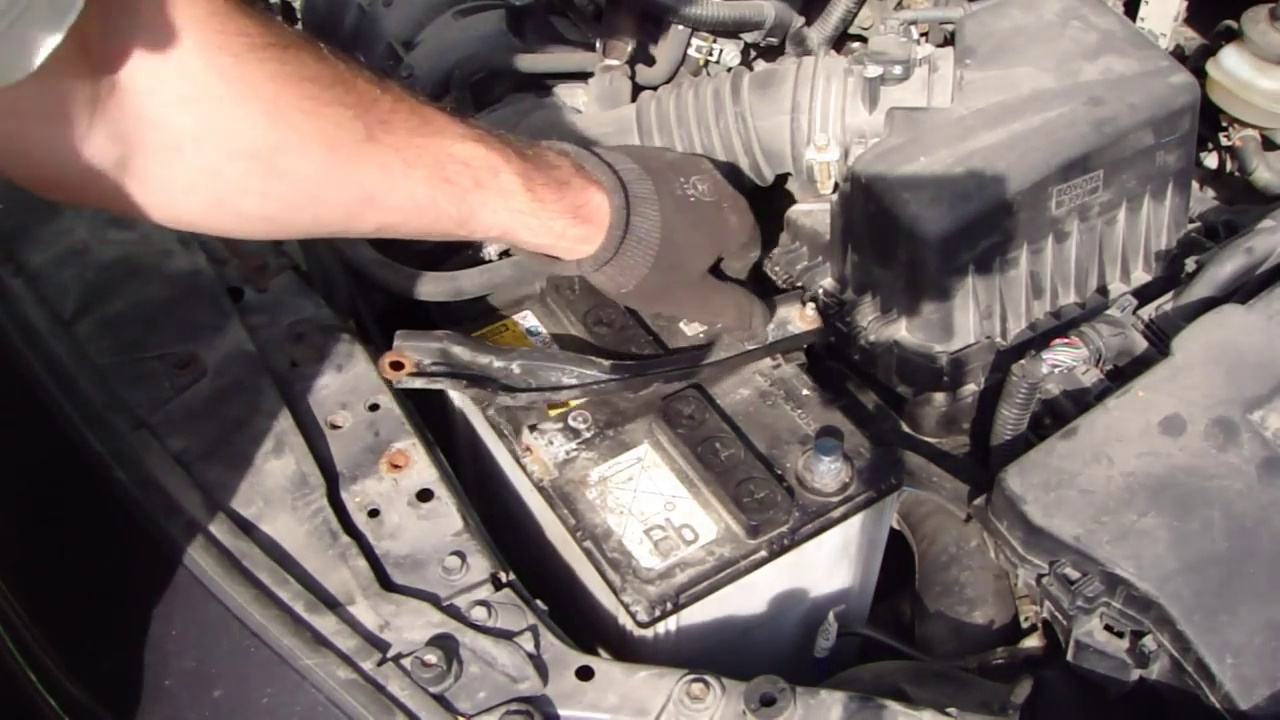battery: (417, 273, 902, 610)
